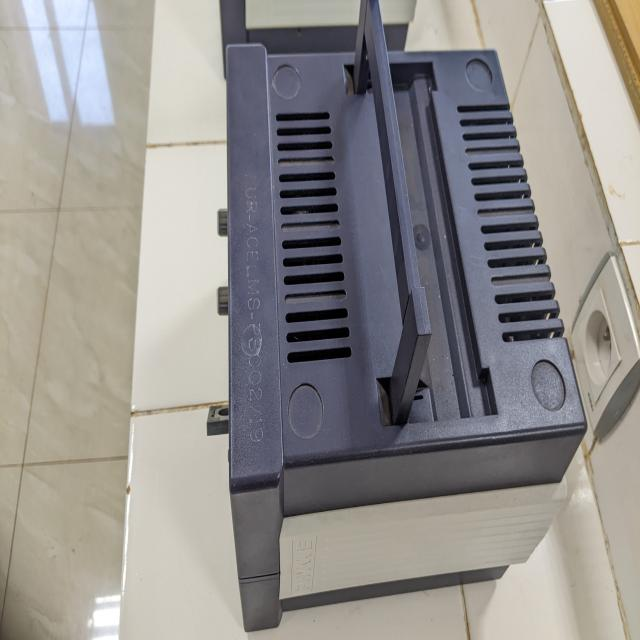Netzgerat Universal Power Supply: (201, 0, 594, 625)
